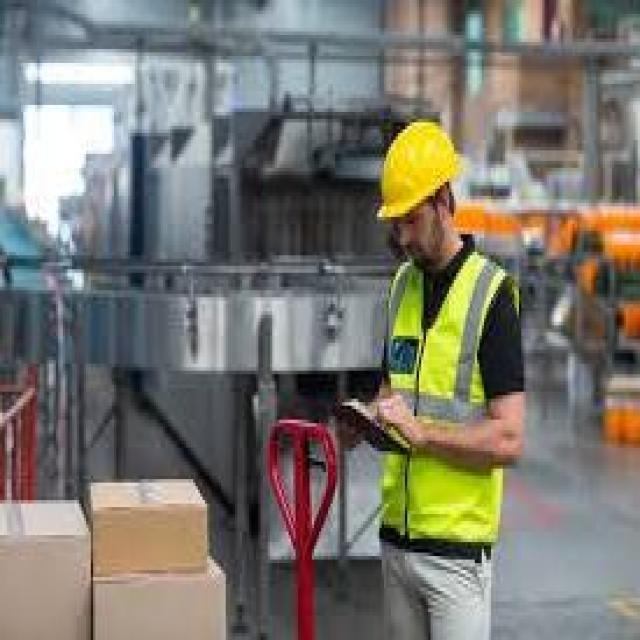Capacete: (378, 121, 460, 219)
Colete: (387, 252, 505, 427)
